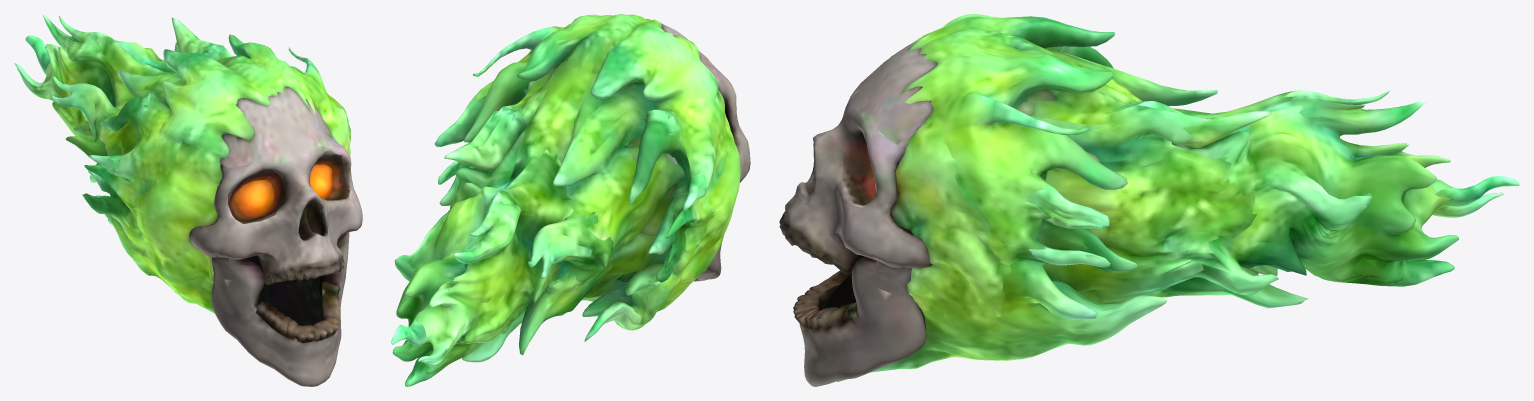
The model's file is MZ4250 - Flaming Skull_2025.glb.
3 renders of one model, left to right at view 1: azimuth 30°, elevation 25°; view 2: azimuth 150°, elevation 25°; view 3: azimuth 270°, elevation 25°, orthographic. The views are drawn at different scales.
Visible parts, largest first — view 1: Fire Bolt.001; view 2: Fire Bolt.001; view 3: Fire Bolt.001.
Part boxes in pixels (<box>): Fire Bolt.001: <box>14,14,362,386</box>; Fire Bolt.001: <box>391,14,750,386</box>; Fire Bolt.001: <box>779,14,1519,386</box>.
Size of the model in its own units: 11.92 by 14.05 by 26.91.
Materials: 1 (1 with a texture image).
